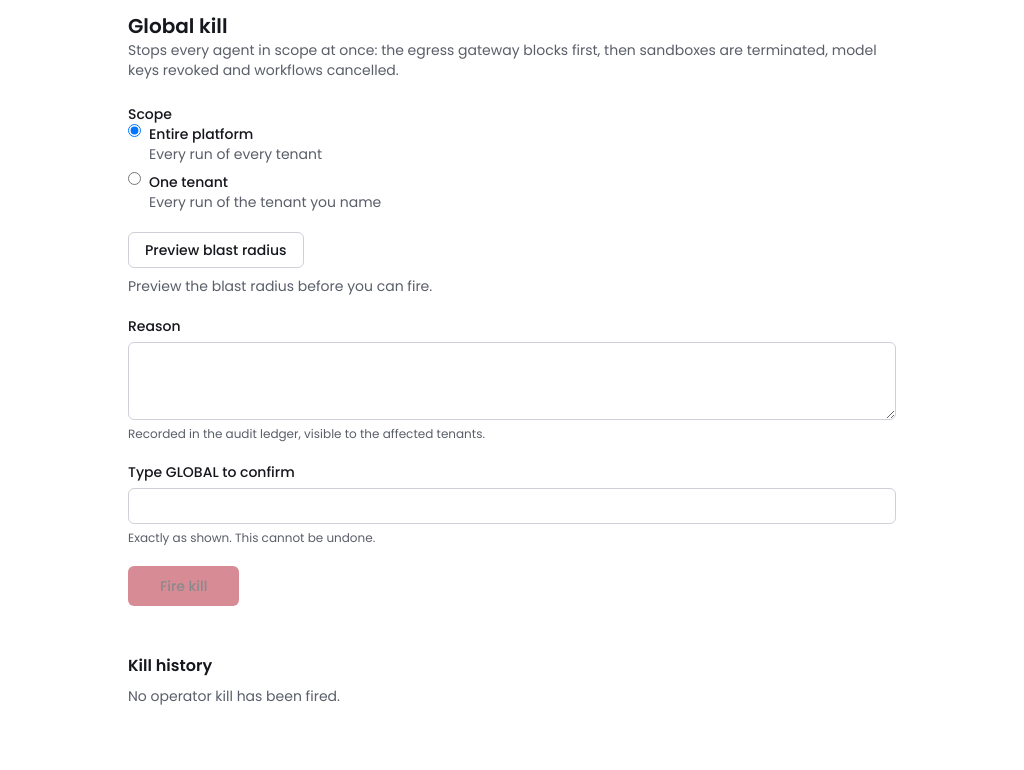
GlobalKillPanel: halt progress (simulated kill) › flags nothing when both phases met their targets
Click the button "Preview blast radius": (216, 250) [128, 232, 304, 268]
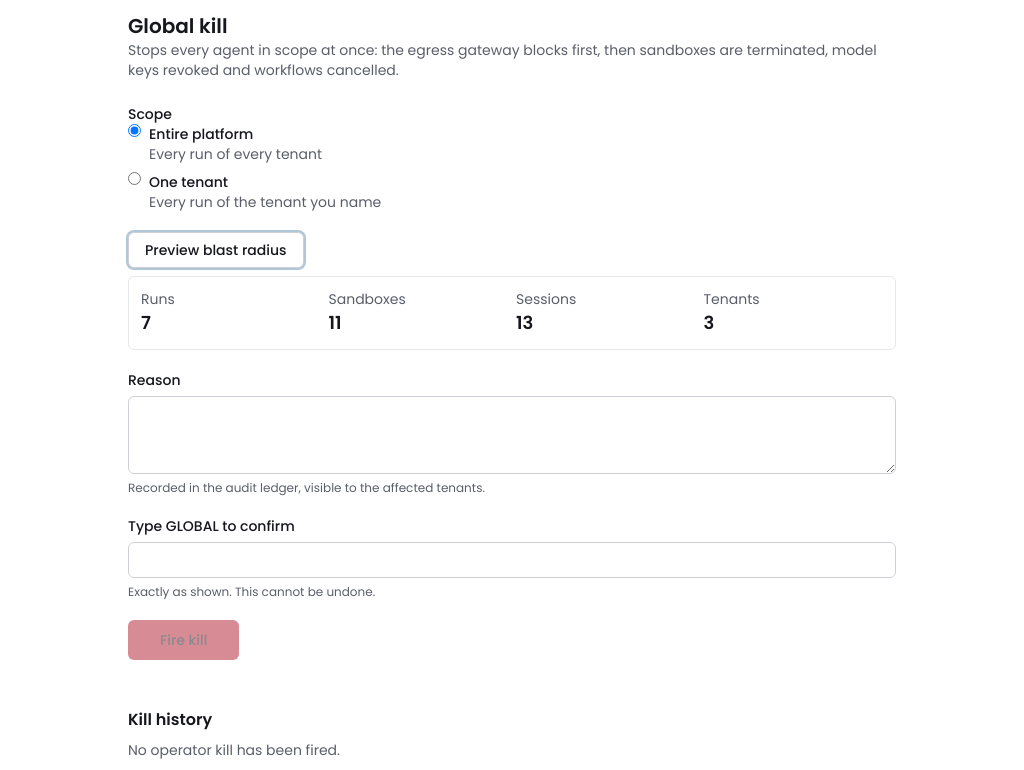
Expected: the text "Preview the blast radius before" is gone
In the text box labelled "Reason": (512, 435) [128, 396, 896, 474], type "platform incident"
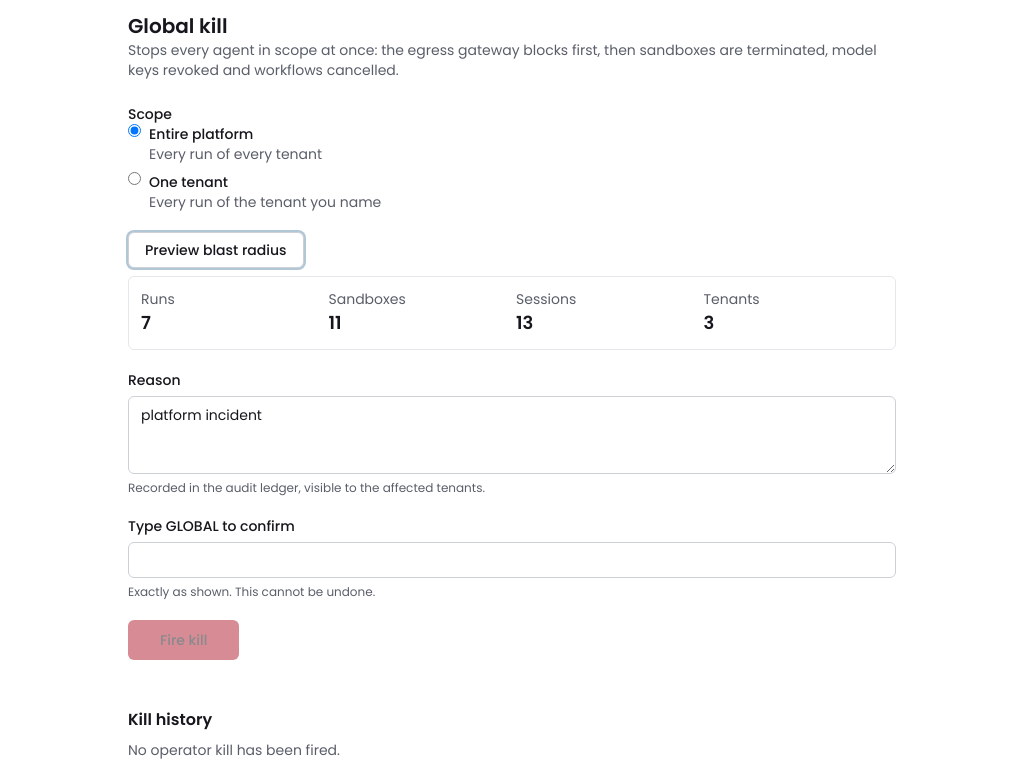
In the field labelled "Type GLOBAL to confirm": (512, 560) [128, 542, 896, 578], type "GLOBAL"
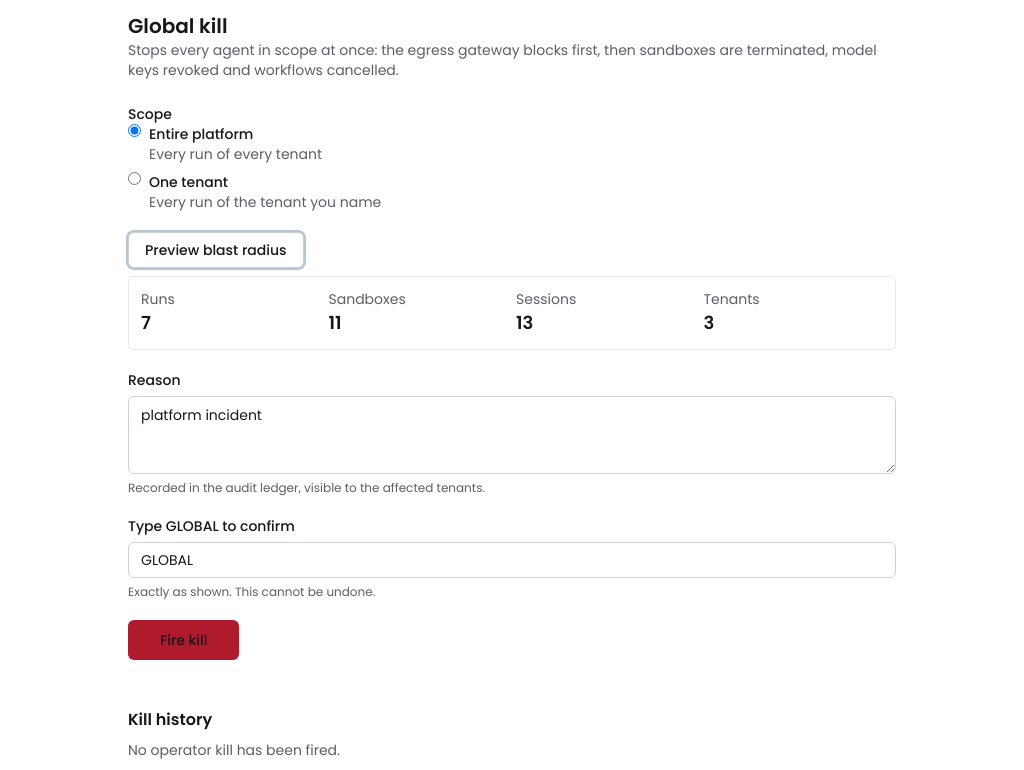
Click the button "Fire kill": (184, 640) [128, 620, 239, 660]
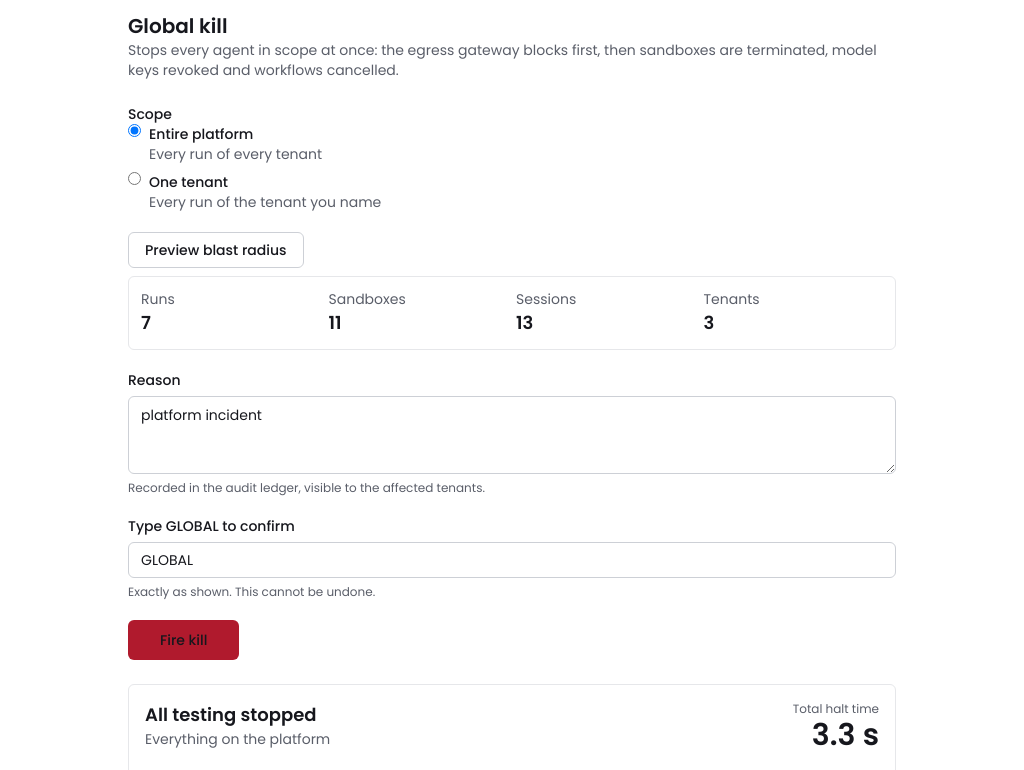
Expected: the heading "All testing stopped" is shown, [145, 701, 330, 729]
Expected: the text with test id "halt-time" reads "3.3 s", [812, 714, 879, 756]
